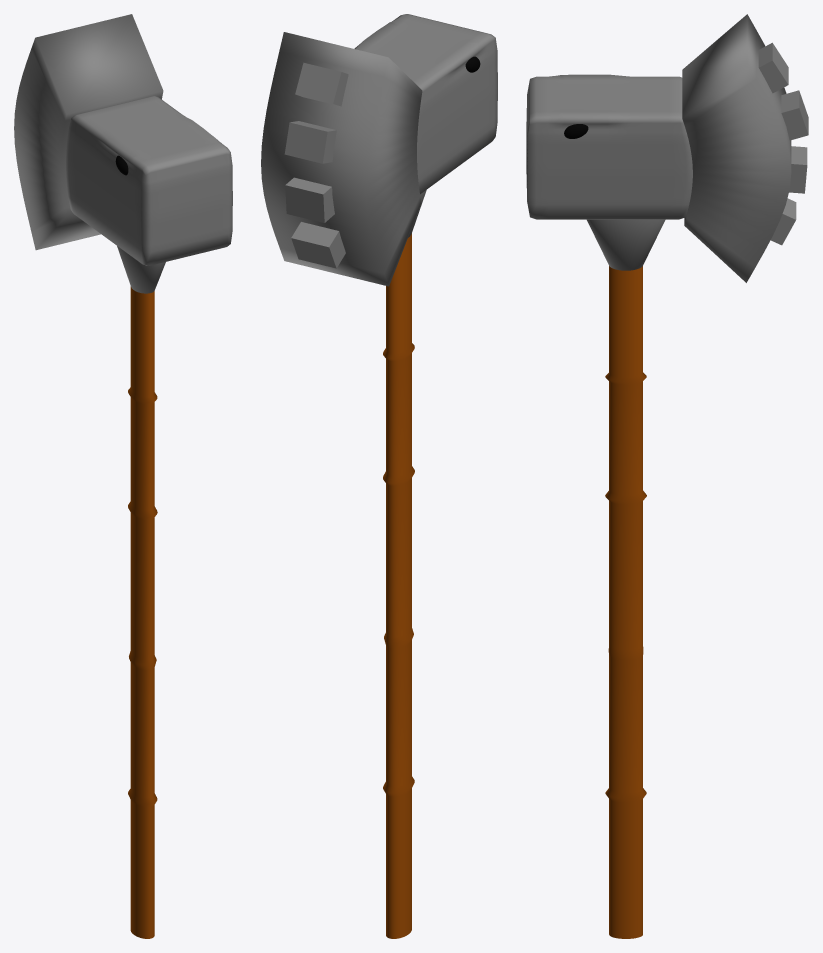
Rendered from MazoMaya.fbx.
3 views of the same model, side by side, from view 1: azimuth 30°, elevation 25°; view 2: azimuth 150°, elevation 25°; view 3: azimuth 270°, elevation 25° (orthographic). The views are drawn at different scales.
Parts seen in each view (by area): view 1: Cabeza, Cabeza2, Mango, Union; view 2: Cabeza2, Mango, Cabeza, Decoracion, Decoracion2, Decoracion3, Decoracion4; view 3: Cabeza, Mango, Cabeza2, Union, Decoracion3, Decoracion4, Decoracion2, Decoracion.
Part boxes in pixels (left/top/right/bottom): Cabeza: left=66, top=96, right=232, bottom=265; Cabeza2: left=14, top=14, right=163, bottom=250; Mango: left=128, top=286, right=157, bottom=938; Union: left=117, top=246, right=165, bottom=293; Cabeza2: left=261, top=32, right=422, bottom=286; Mango: left=383, top=233, right=414, bottom=938; Cabeza: left=354, top=14, right=497, bottom=194; Decoracion: left=291, top=222, right=345, bottom=268; Decoracion2: left=285, top=177, right=334, bottom=222; Decoracion3: left=284, top=121, right=336, bottom=163; Decoracion4: left=295, top=62, right=348, bottom=106; Cabeza: left=526, top=74, right=692, bottom=219; Mango: left=605, top=266, right=646, bottom=938; Cabeza2: left=682, top=14, right=791, bottom=282; Union: left=587, top=219, right=665, bottom=270; Decoracion3: left=781, top=90, right=808, bottom=140; Decoracion4: left=758, top=42, right=788, bottom=93; Decoracion2: left=789, top=146, right=807, bottom=193; Decoracion: left=771, top=198, right=796, bottom=245.
Bounding box in the file's own units: 472 × 4021 × 1149.
